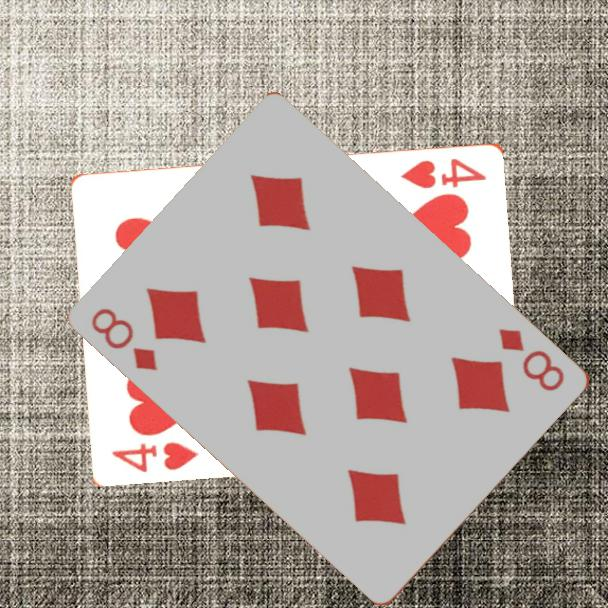d08: (88, 304, 162, 374), (495, 324, 568, 394)
h04: (109, 438, 203, 475), (397, 154, 490, 191)
